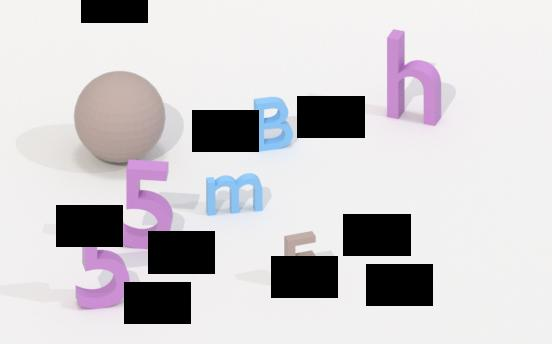5: (72, 216, 136, 313), (116, 160, 176, 252)
F: (281, 229, 323, 292)
b: (249, 94, 298, 154)
cau: (66, 71, 175, 165)
h: (377, 28, 457, 128)
m: (202, 172, 268, 218)
